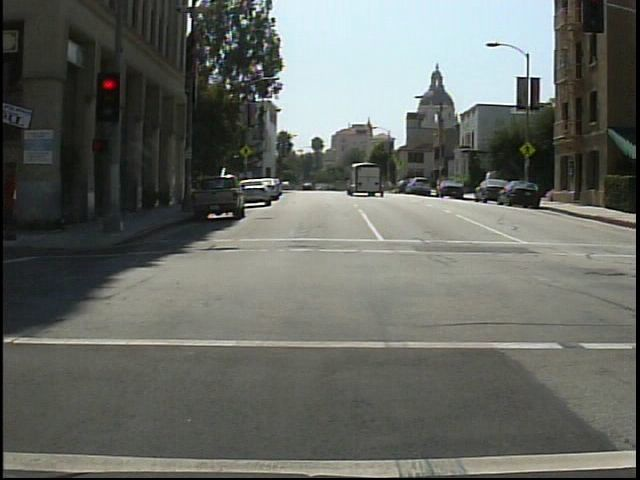person: (5, 156, 32, 240)
